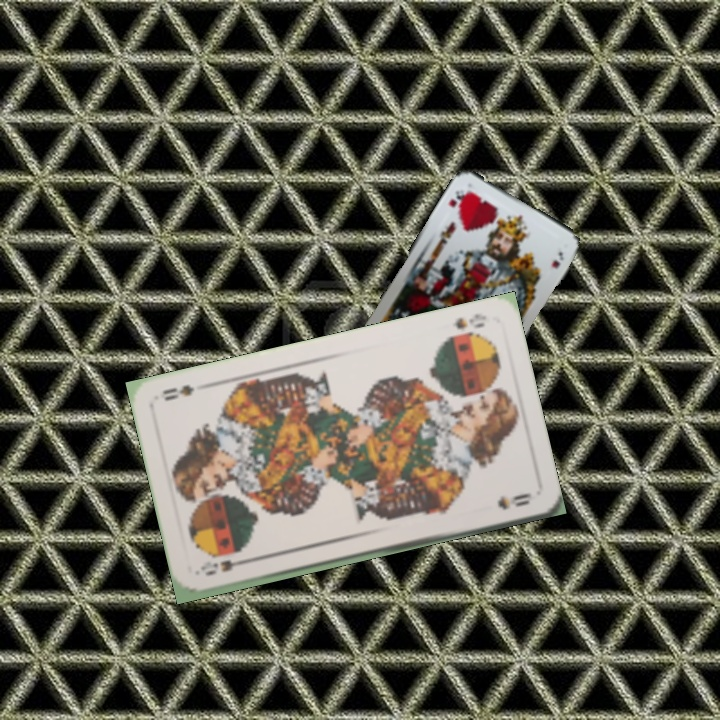HK: (445, 186, 471, 210)
SO: (196, 554, 253, 579), (450, 309, 489, 332)
